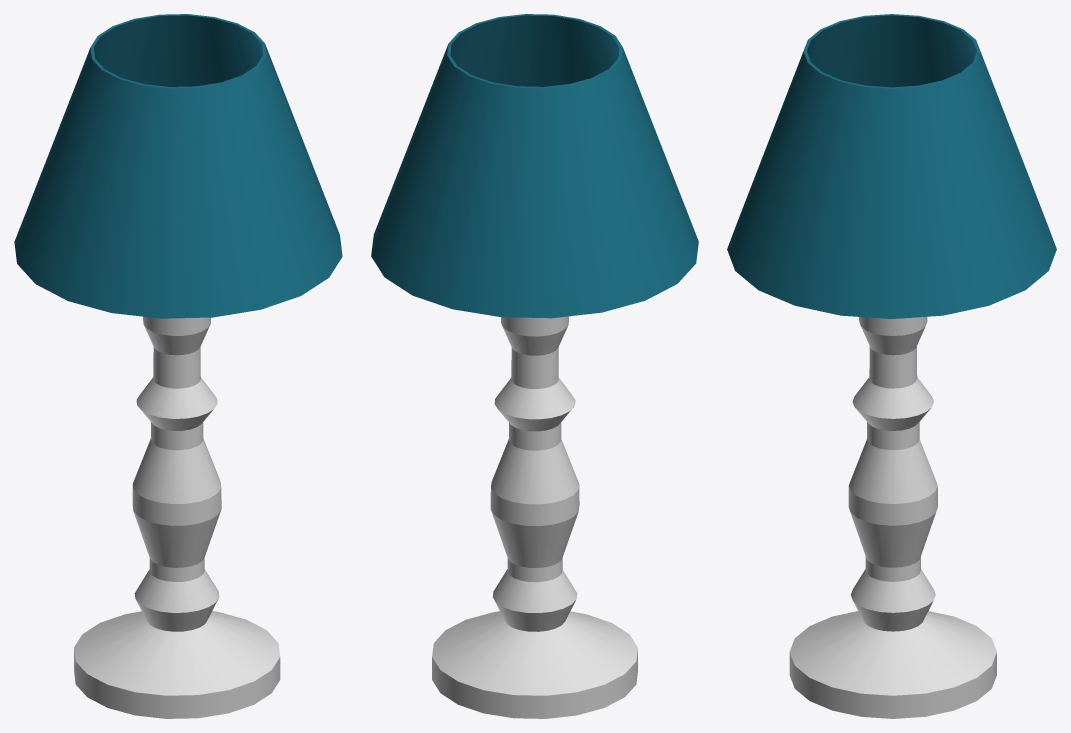
Rendered from LampeChevet1_2.fbx.
3 views of the same model, side by side, from view 1: azimuth 30°, elevation 25°; view 2: azimuth 150°, elevation 25°; view 3: azimuth 270°, elevation 25° (orthographic).
Visible parts, largest first — view 1: pPipe38, pCylinder230; view 2: pPipe38, pCylinder230; view 3: pPipe38, pCylinder230.
Boxes of the visible parts, x1=… form: pPipe38: x1=14, y1=14, x2=342, y2=318; pCylinder230: x1=74, y1=316, x2=280, y2=718; pPipe38: x1=371, y1=14, x2=698, y2=318; pCylinder230: x1=432, y1=316, x2=637, y2=718; pPipe38: x1=727, y1=14, x2=1056, y2=318; pCylinder230: x1=789, y1=316, x2=996, y2=718.
Bounding box in the file's own units: 15.07 × 31.45 × 15.07.
